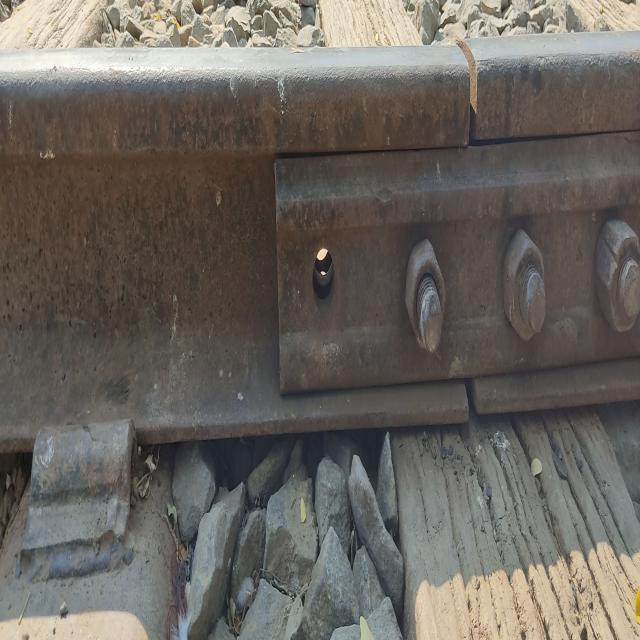railway_join_bar_defects_low: (446, 41, 493, 418)
